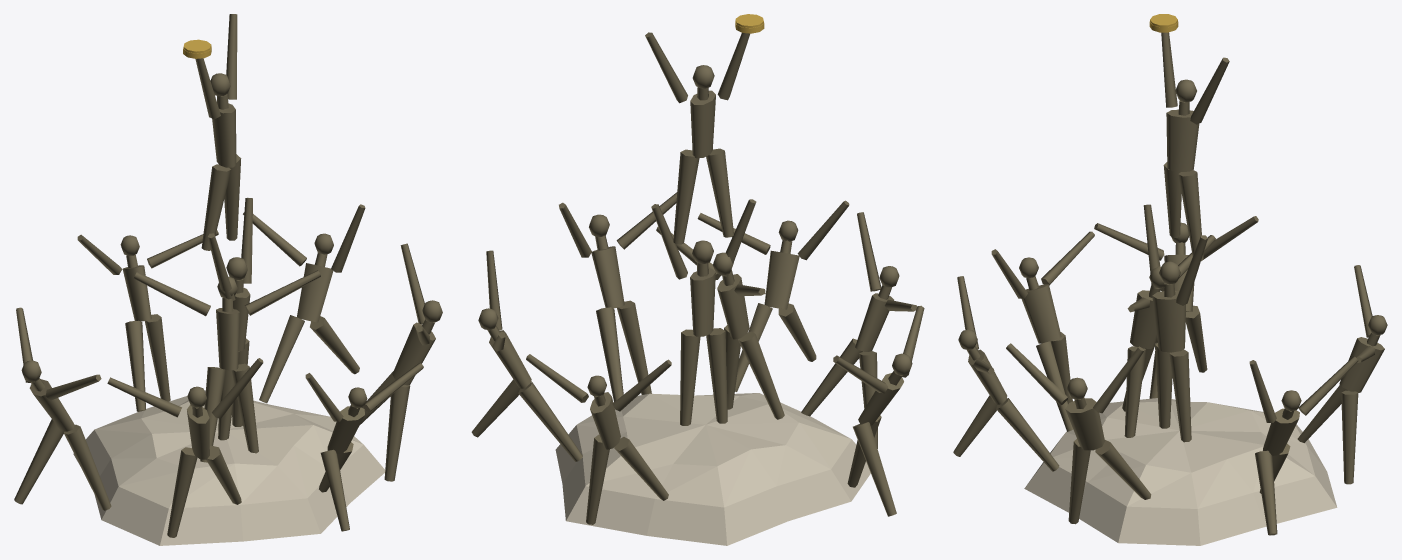
Rendered from nash-musica.glb.
3 renders of one model, left to right at view 1: azimuth 30°, elevation 25°; view 2: azimuth 150°, elevation 25°; view 3: azimuth 270°, elevation 25°, orthographic. The views are drawn at different scales.
Parts seen in each view (by area): view 1: Musica; view 2: Musica; view 3: Musica.
Part boxes in pixels (box(x1,y1,x2,y2)): Musica: box(14, 14, 442, 545); Musica: box(471, 14, 924, 545); Musica: box(953, 14, 1387, 545).
Size of the model in its own units: 10.01 by 11.21 by 9.95.
